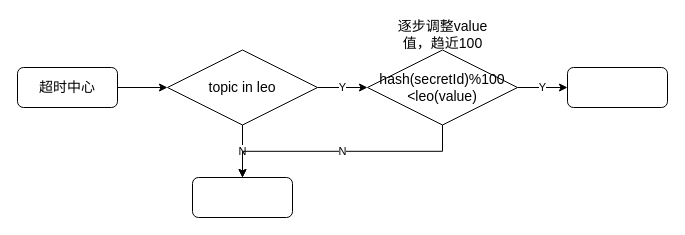
The diagram is 685 pixels wide and 235 high, and some of its shapes have lost their labels. The centre of each missing label's shape, as x and y in pixels:
send kafka: [617,87]
send rmq: [242,197]
